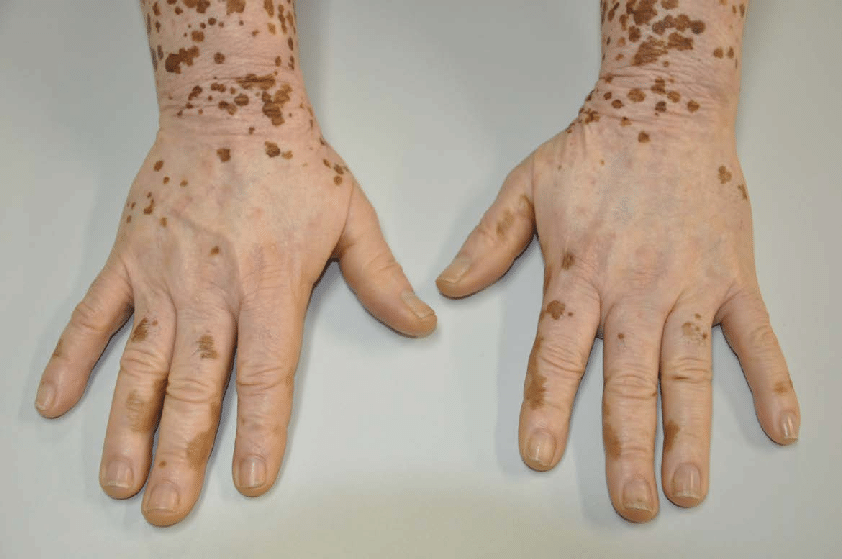Diseased: (147, 38, 726, 364)
